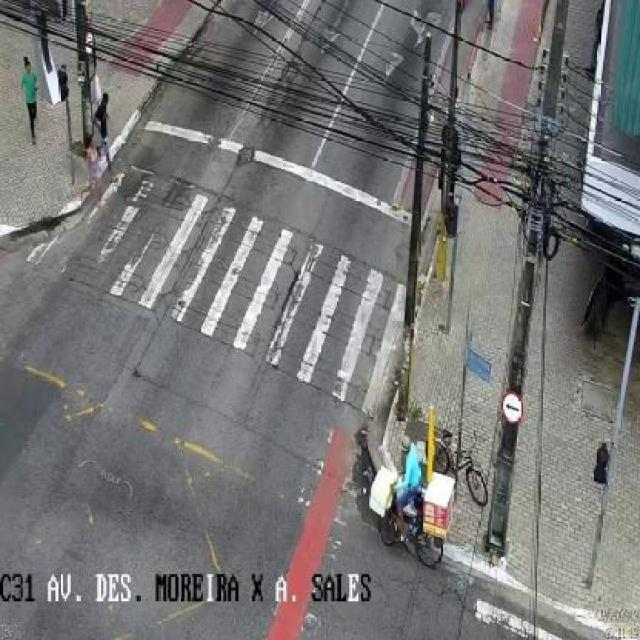Cycle: (364, 444, 456, 572)
